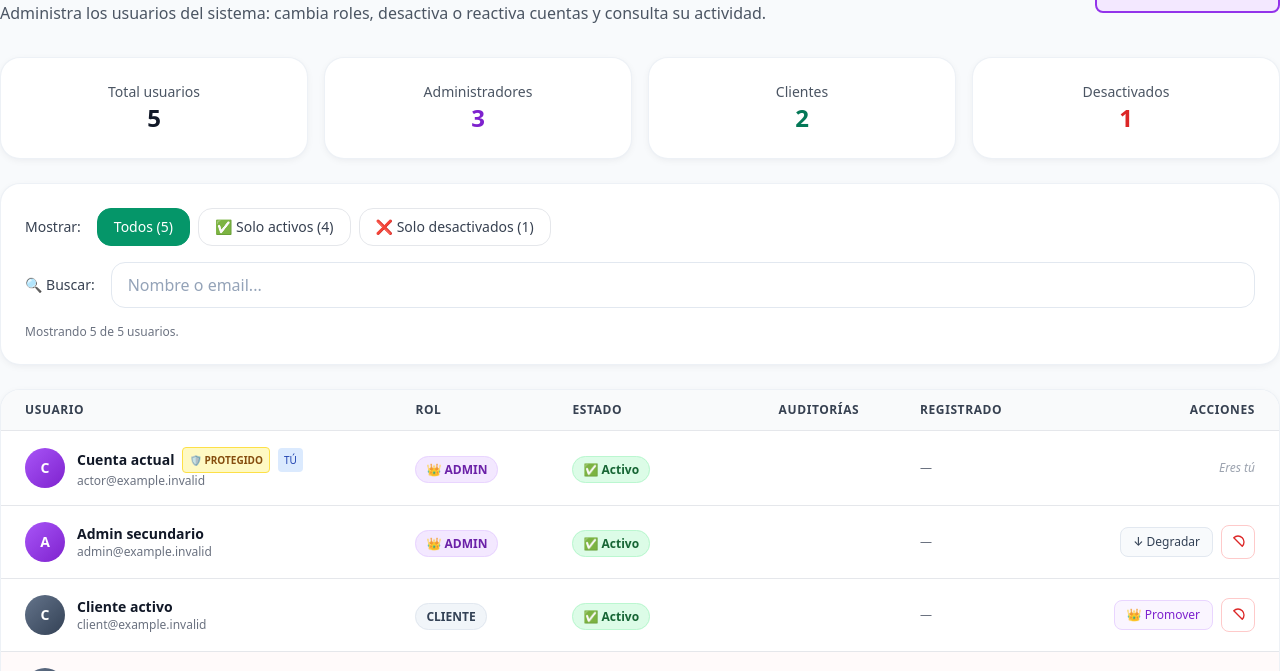
Test: user management role presentation and API contract › sends unchanged role payload for user 9
The image size is (1280, 671).
Click the button "👑 Promover" at [1163, 615], box x1=1114 y1=600 x2=1213 y2=630
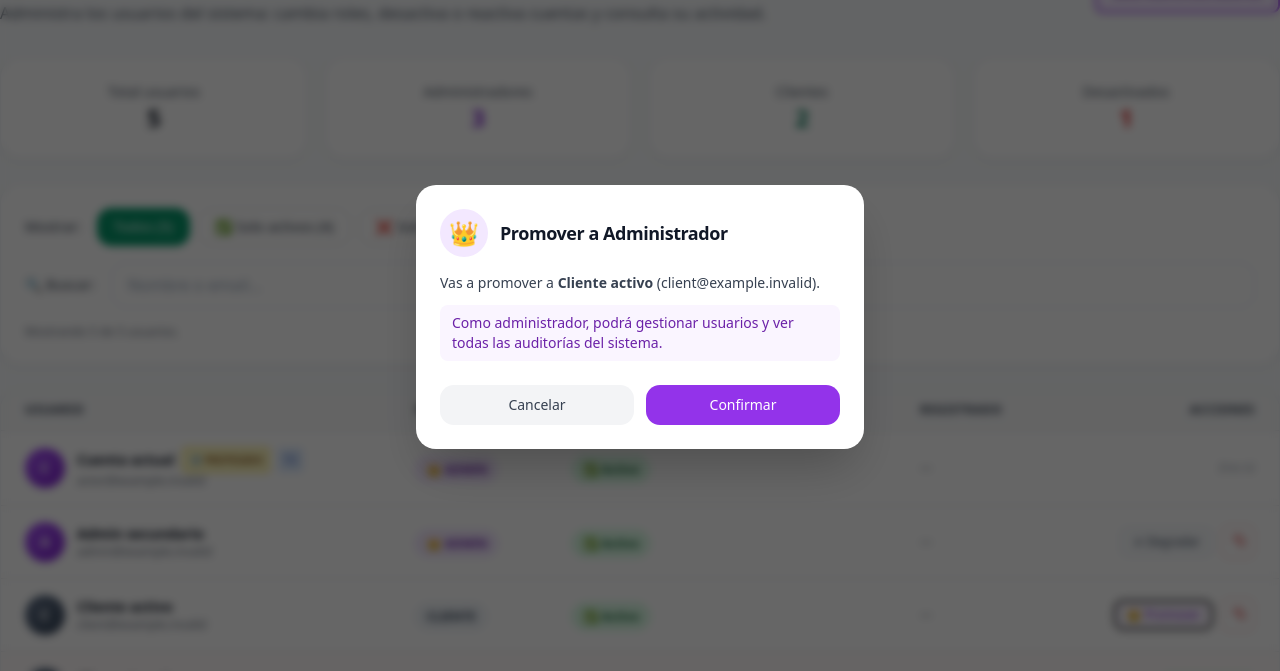
Now the heading "Promover a Administrador" is shown, box x1=500 y1=219 x2=728 y2=247
Click the button "Confirmar" at [743, 405], box x1=646 y1=385 x2=840 y2=425
(page scrolled)
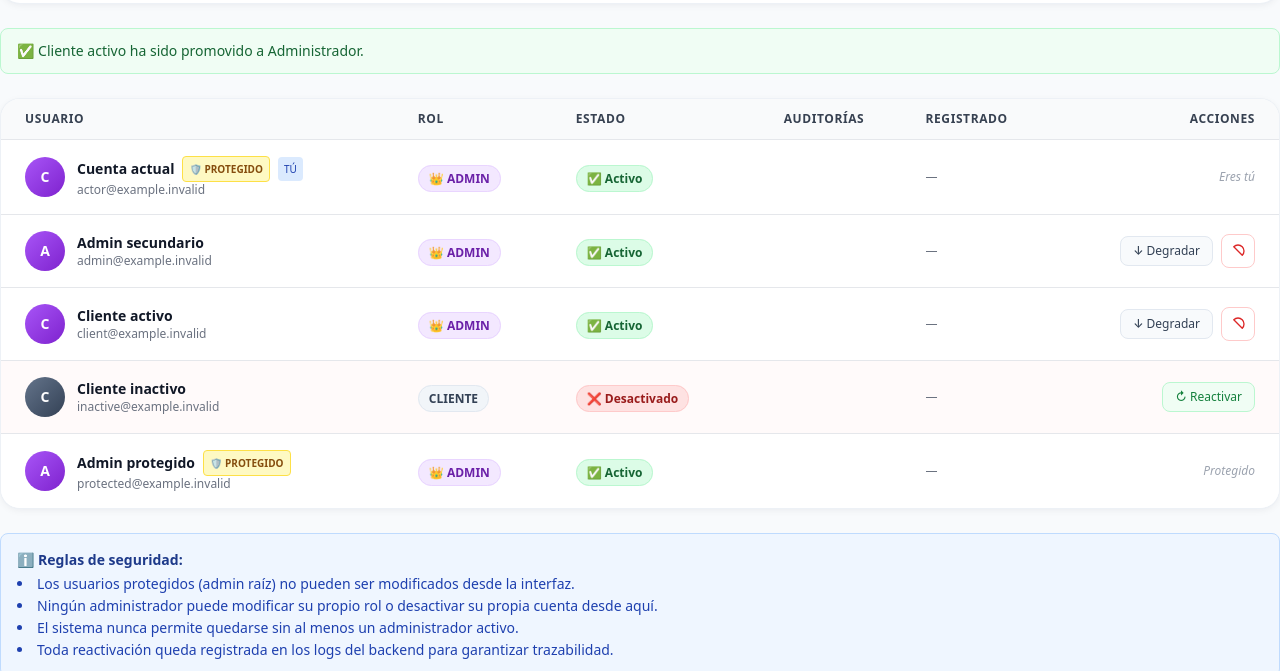
Now the text "👑 ADMIN" in the row of "client@example.invalid" is shown, box x1=429 y1=317 x2=490 y2=334
